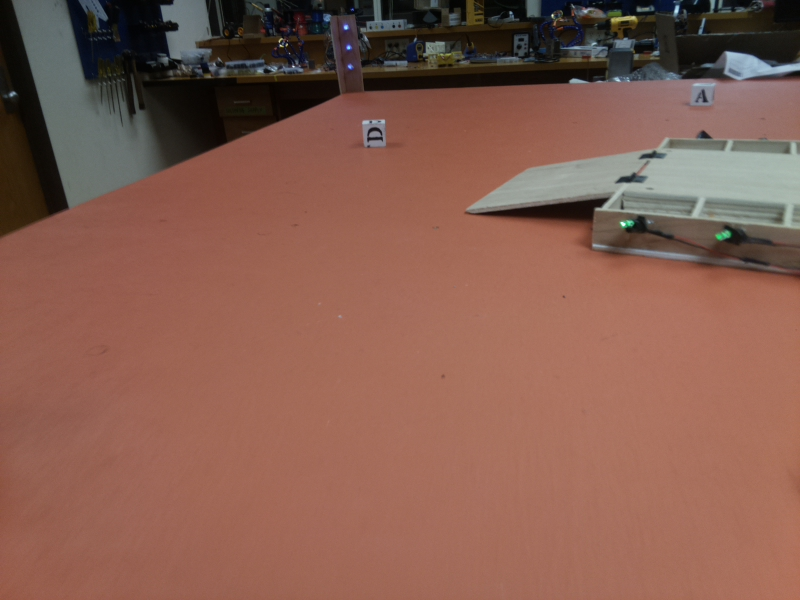blockA: (688, 83, 717, 105)
blockD: (359, 115, 390, 148)
corner: (328, 14, 365, 90)
side: (589, 207, 800, 282), (656, 131, 800, 147)
slope: (466, 146, 654, 210)
